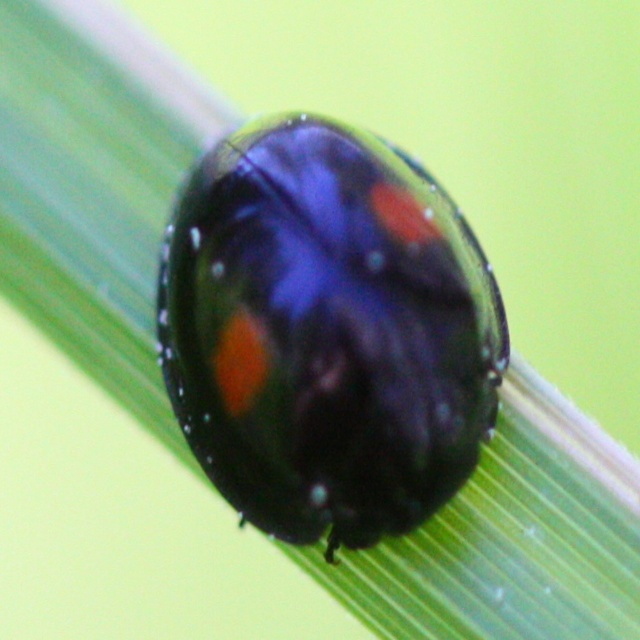Ladybug: (149, 107, 515, 579)
